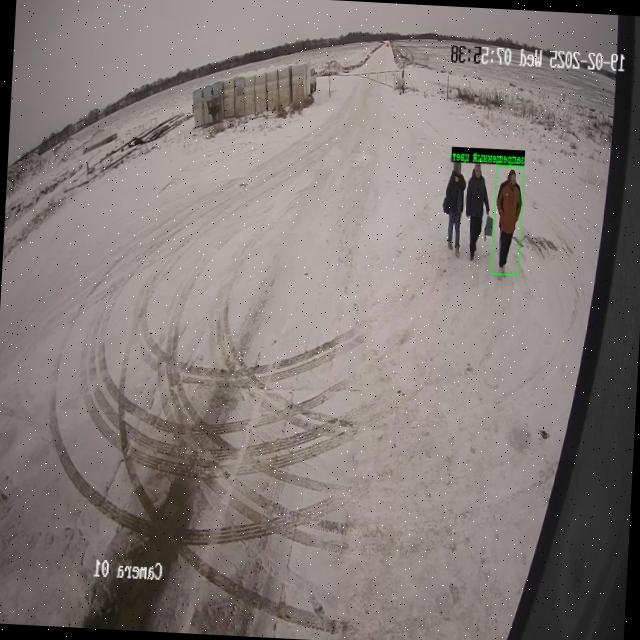Person: (496, 169, 522, 272), (466, 164, 490, 261), (443, 166, 466, 255)
